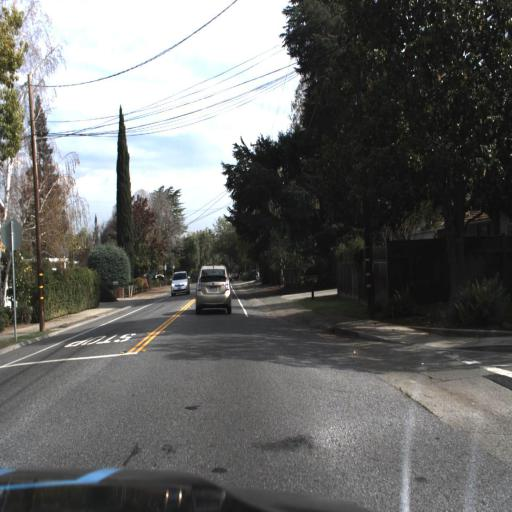car: (194, 264, 236, 326), (168, 271, 190, 303)
